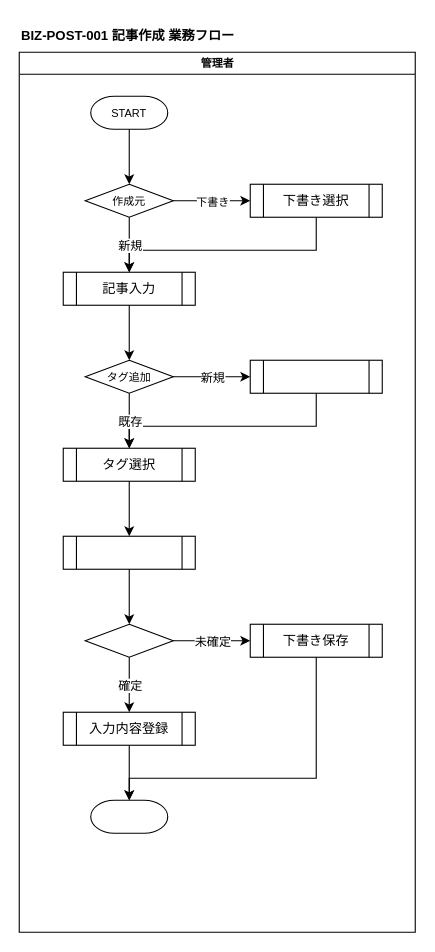
This 435x952 diagram has some shape labels left out. The centre of each missing label's shape, as x and y in pixels:
END: the point at 129,816
タグ新規作成: the point at 315,376
プレビュー確認: the point at 128,552
登録確定: the point at 128,640
